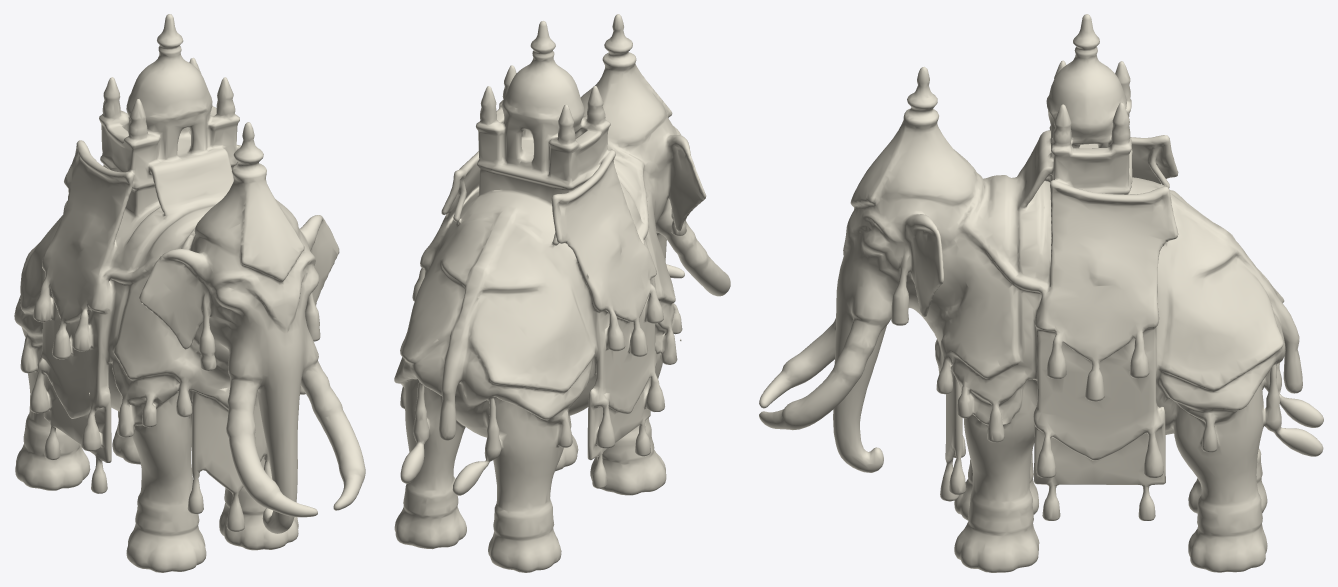
Rendered from ru-slon.glb.
3 renders of one model, left to right at view 1: azimuth 30°, elevation 25°; view 2: azimuth 150°, elevation 25°; view 3: azimuth 270°, elevation 25°, orthographic. The views are drawn at different scales.
Parts seen in each view (by area): view 1: world; view 2: world; view 3: world.
Boxes of the visible parts, box(x1,y1,x2,y2) form: world: box(14, 14, 365, 572); world: box(394, 14, 730, 572); world: box(759, 14, 1323, 572).
Bounding box in the file's own units: 0.9378 × 2 × 1.96.
